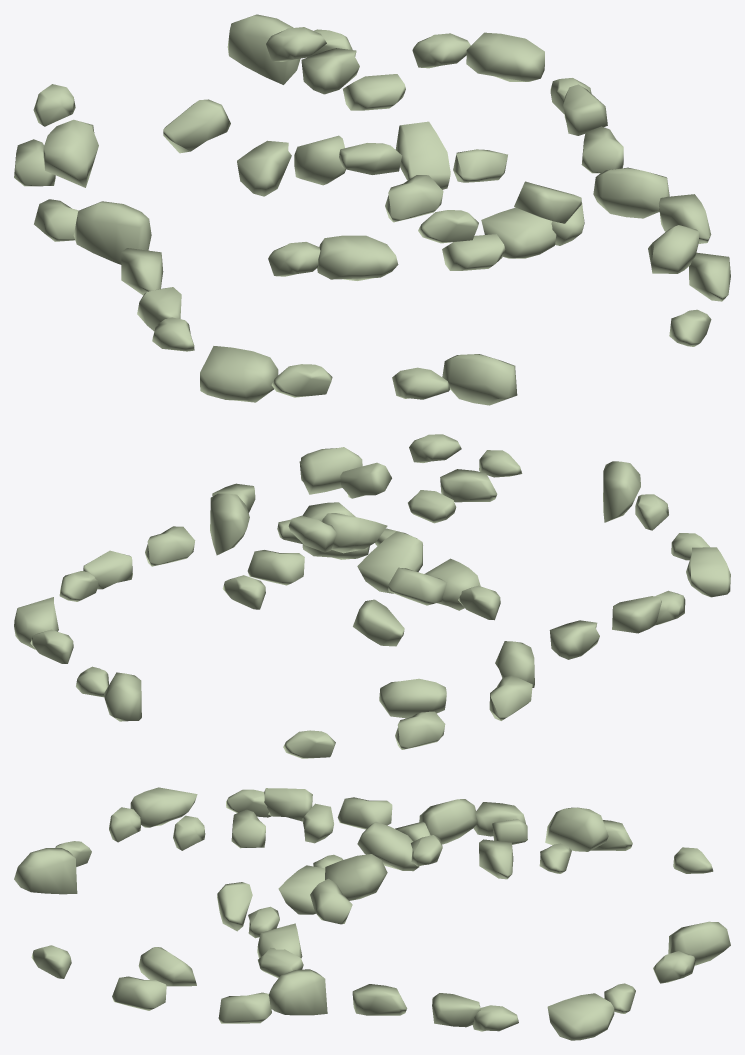
File: Rubble_02B_Lod0.fbx
3 views of the same model, one above another, from view 1: azimuth 30°, elevation 25°; view 2: azimuth 150°, elevation 25°; view 3: azimuth 270°, elevation 25° (orthographic). The views are drawn at different scales.
Visible parts, largest first — view 1: Rubble_02B_Lod0; view 2: Rubble_02B_Lod0; view 3: Rubble_02B_Lod0.
Boxes of the visible parts, bbox=[...] form: Rubble_02B_Lod0: bbox=[14, 14, 730, 405]; Rubble_02B_Lod0: bbox=[14, 434, 730, 758]; Rubble_02B_Lod0: bbox=[14, 787, 730, 1040].
Bounding box in the file's own units: 310 × 64.81 × 400.
